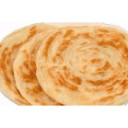parota: (42, 25, 128, 101), (1, 24, 41, 105)
